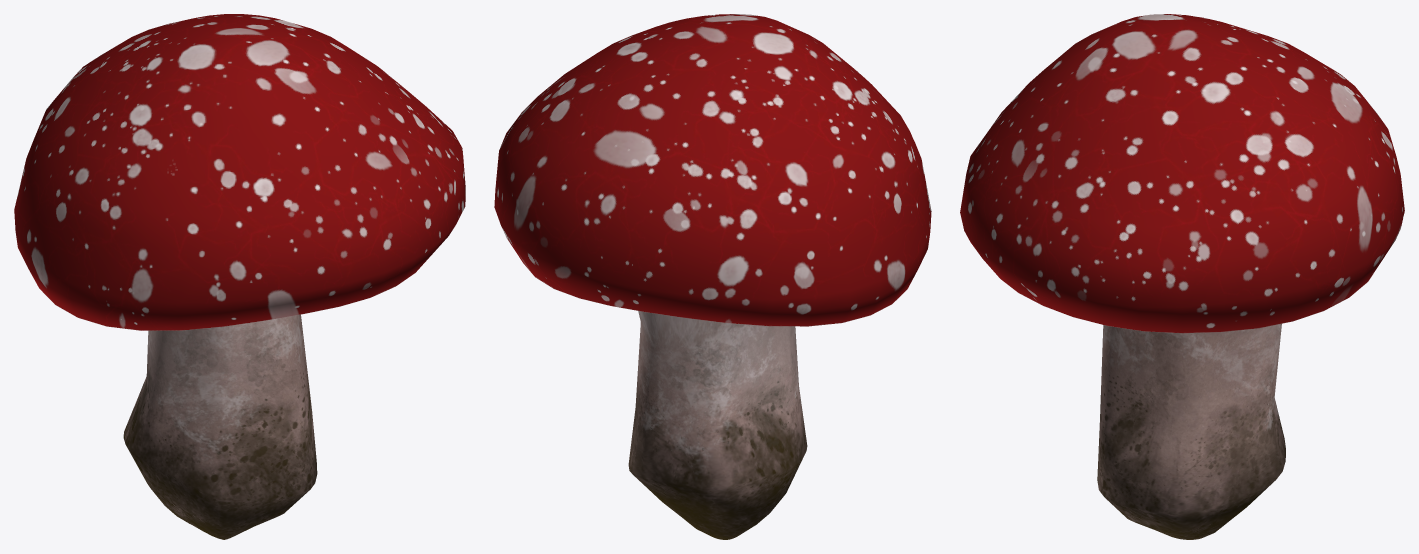
The picture shows the model from 3 angles, left to right: view 1: azimuth 30°, elevation 25°; view 2: azimuth 150°, elevation 25°; view 3: azimuth 270°, elevation 25°; orthographic projection. The views are drawn at different scales.
Visible parts, largest first — view 1: Champignon_LP; view 2: Champignon_LP; view 3: Champignon_LP.
Part boxes in pixels (x1,y1,x2,y2): Champignon_LP: (14, 14, 465, 539); Champignon_LP: (494, 14, 931, 539); Champignon_LP: (960, 14, 1404, 539).
Size of the model in its own units: 39.97 by 48.89 by 38.94.
1 material, 1 textured.
